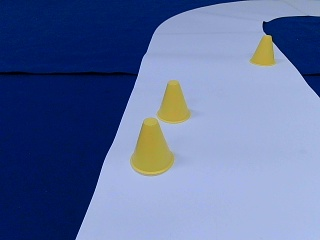cone: (131, 118, 175, 174), (158, 81, 191, 123), (249, 35, 274, 66)
